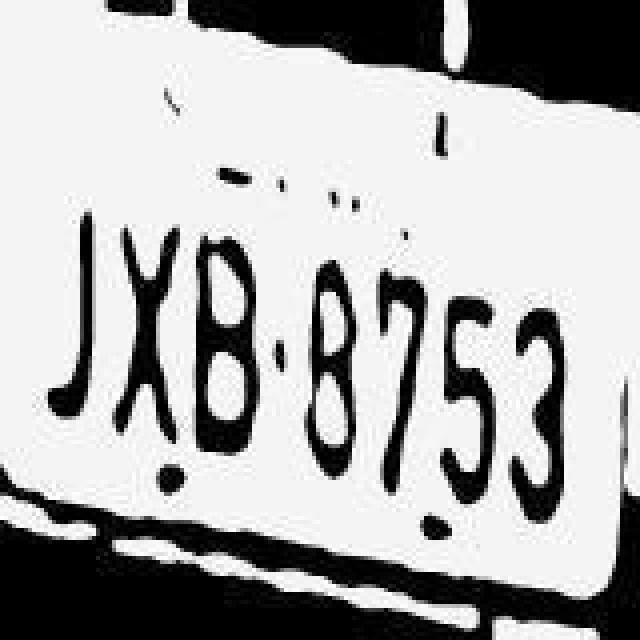3: (500, 300, 572, 540)
5: (430, 274, 498, 518)
7: (370, 254, 430, 514)
8: (294, 244, 362, 500)
B: (186, 198, 262, 458)
J: (32, 178, 104, 422)
X: (106, 182, 182, 442)
